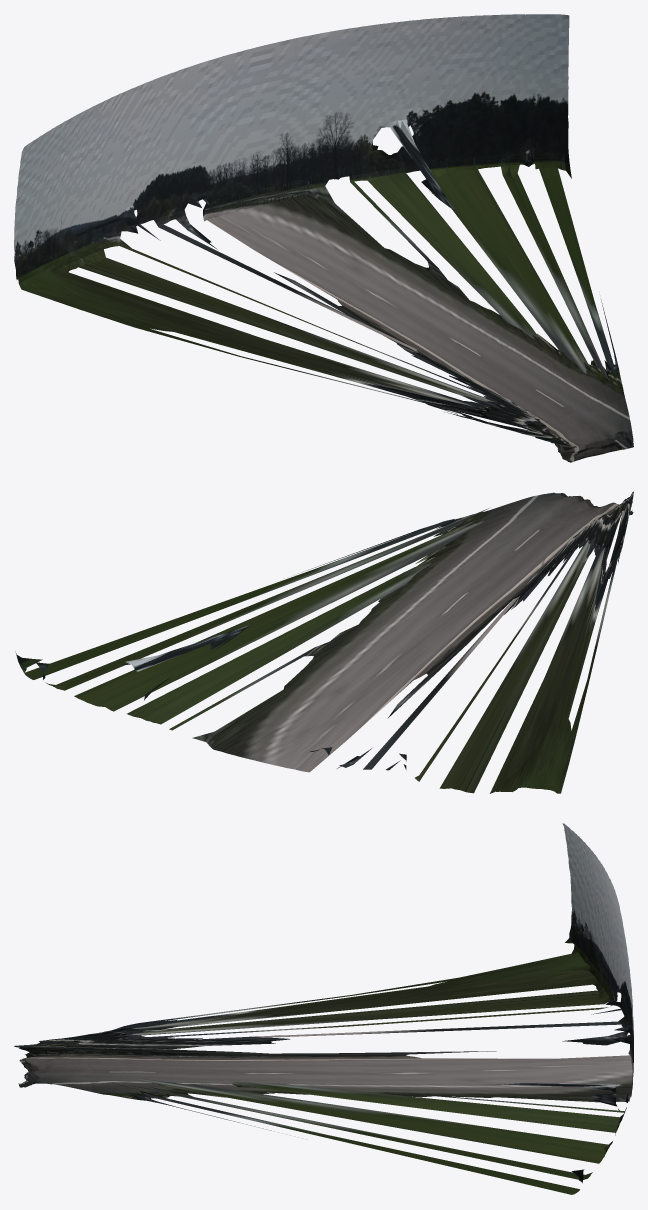
The picture shows the model from 3 angles, top to bottom: view 1: azimuth 30°, elevation 25°; view 2: azimuth 150°, elevation 25°; view 3: azimuth 270°, elevation 25°; orthographic projection. The views are drawn at different scales.
Parts seen in each view (by area): view 1: defaultobject; view 2: defaultobject; view 3: defaultobject.
Boxes of the visible parts, box(x1,y1,x2,y2) form: defaultobject: box(14, 14, 633, 462); defaultobject: box(15, 491, 633, 793); defaultobject: box(14, 823, 633, 1194).
Bounding box in the file's own units: 41.14 × 11.9 × 44.88.
1 material, 1 textured.
